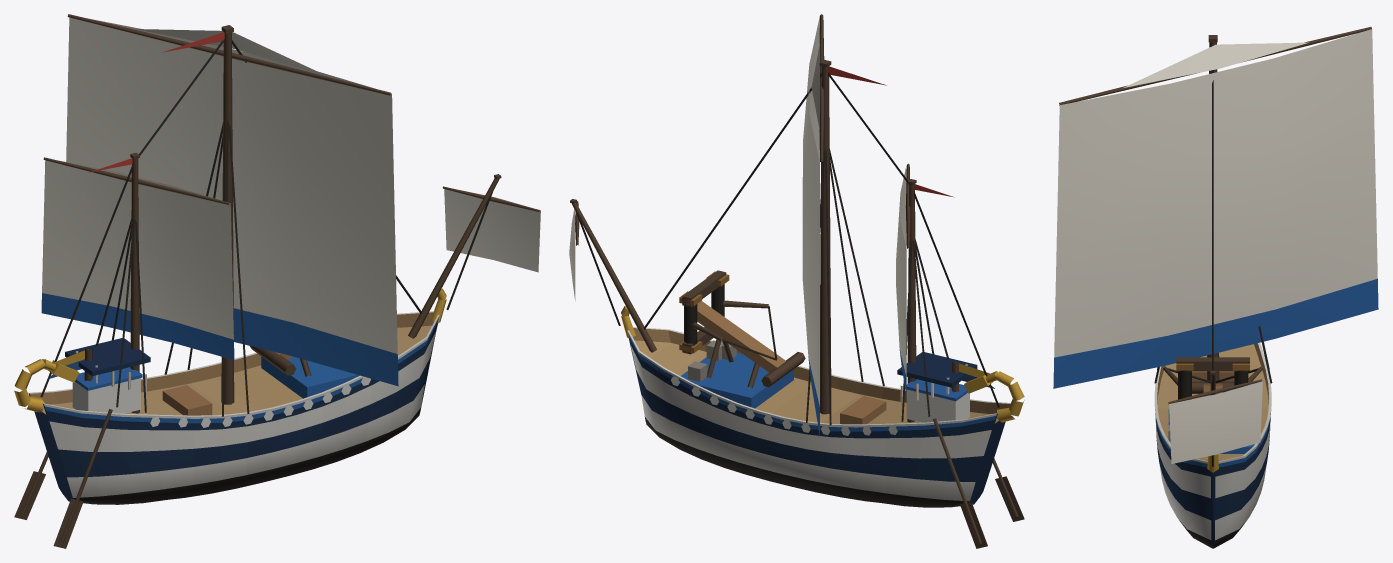
File: titan_usdc.glb
3 renders of one model, left to right at view 1: azimuth 30°, elevation 25°; view 2: azimuth 150°, elevation 25°; view 3: azimuth 270°, elevation 25°, orthographic. The views are drawn at different scales.
Visible parts, largest first — view 1: sail_main, hull, sail_extra, deck, mast, rigging, yards, flag; view 2: hull, deck, rigging, mast, sail_main, sail_extra, yards, flag; view 3: sail_main, hull, deck, sail_extra, yards, rigging.
Boxes of the visible parts, x1,y1,x2,y2 form: sail_main: (66, 17, 540, 386); hull: (14, 288, 446, 504); sail_extra: (41, 29, 325, 359); deck: (14, 338, 359, 548); mast: (84, 25, 501, 413); rigging: (40, 38, 492, 416); yards: (43, 14, 539, 211); flag: (48, 32, 224, 379); hull: (621, 306, 1024, 507); deck: (679, 270, 1024, 548); rigging: (575, 72, 999, 425); mast: (570, 59, 958, 422); sail_main: (569, 16, 819, 436); sail_extra: (811, 44, 906, 396); yards: (575, 14, 910, 248); flag: (828, 66, 994, 388); sail_main: (1053, 29, 1378, 463); hull: (1154, 342, 1271, 548); deck: (1163, 357, 1263, 453); sail_extra: (1123, 42, 1308, 87); yards: (1059, 27, 1371, 404); rigging: (1154, 70, 1272, 466).
Size of the model in its own units: 37.43 by 32.89 by 21.62.
